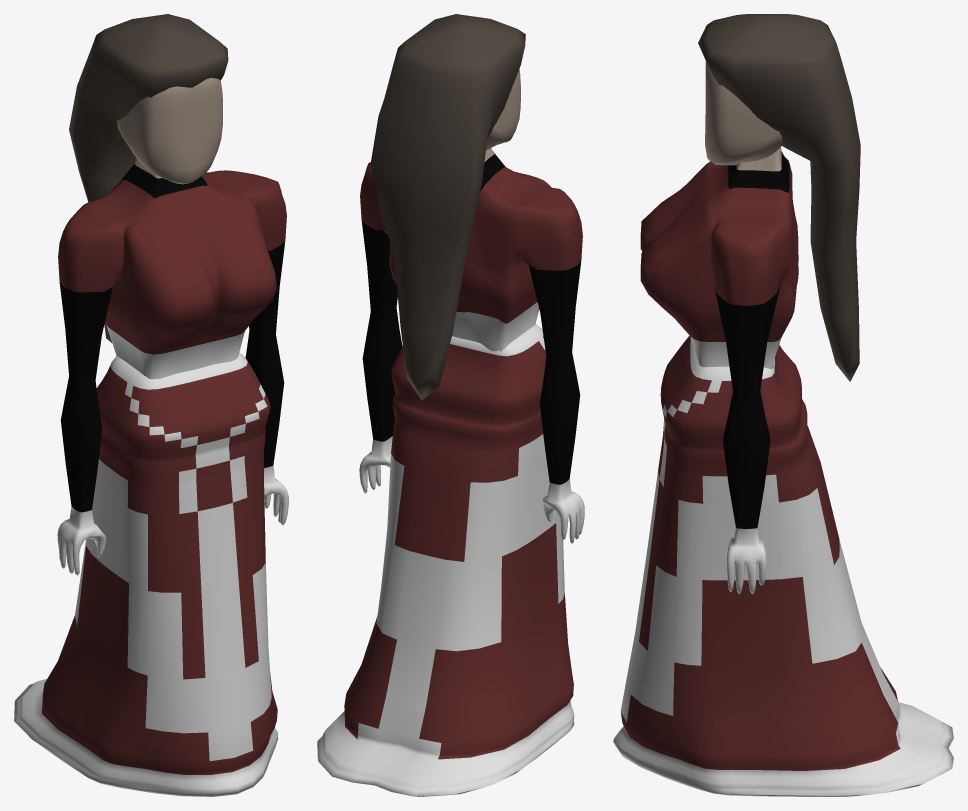
The model's file is maybe fixed flamenco model LIAN.fbx.
3 renders of one model, left to right at view 1: azimuth 30°, elevation 25°; view 2: azimuth 150°, elevation 25°; view 3: azimuth 270°, elevation 25°, orthographic. The views are drawn at different scales.
Visible parts, largest first — view 1: pCube24; view 2: pCube24; view 3: pCube24.
Boxes of the visible parts, x1,y1,x2,y2 form: pCube24: [14, 14, 288, 796]; pCube24: [317, 14, 584, 796]; pCube24: [613, 14, 953, 796].
Bounding box in the file's own units: 16.07 × 50.48 × 21.28.
